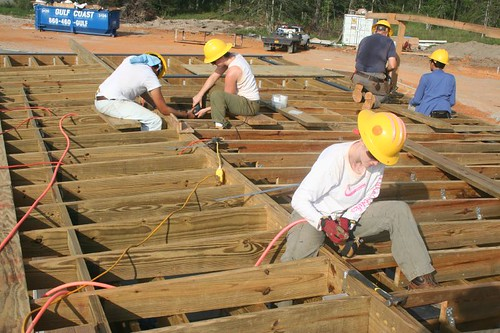person hardhat: (295, 109, 438, 292), (95, 46, 177, 144), (185, 36, 268, 132), (355, 20, 399, 109), (411, 45, 462, 118)
